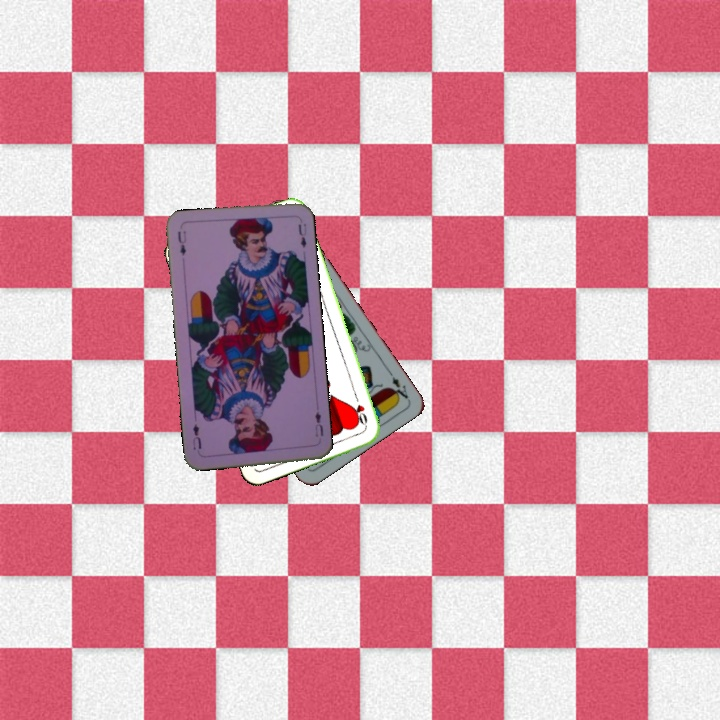EA: (384, 366, 411, 403)
EU: (311, 407, 326, 439), (174, 227, 189, 258)
HO: (350, 390, 370, 430)
